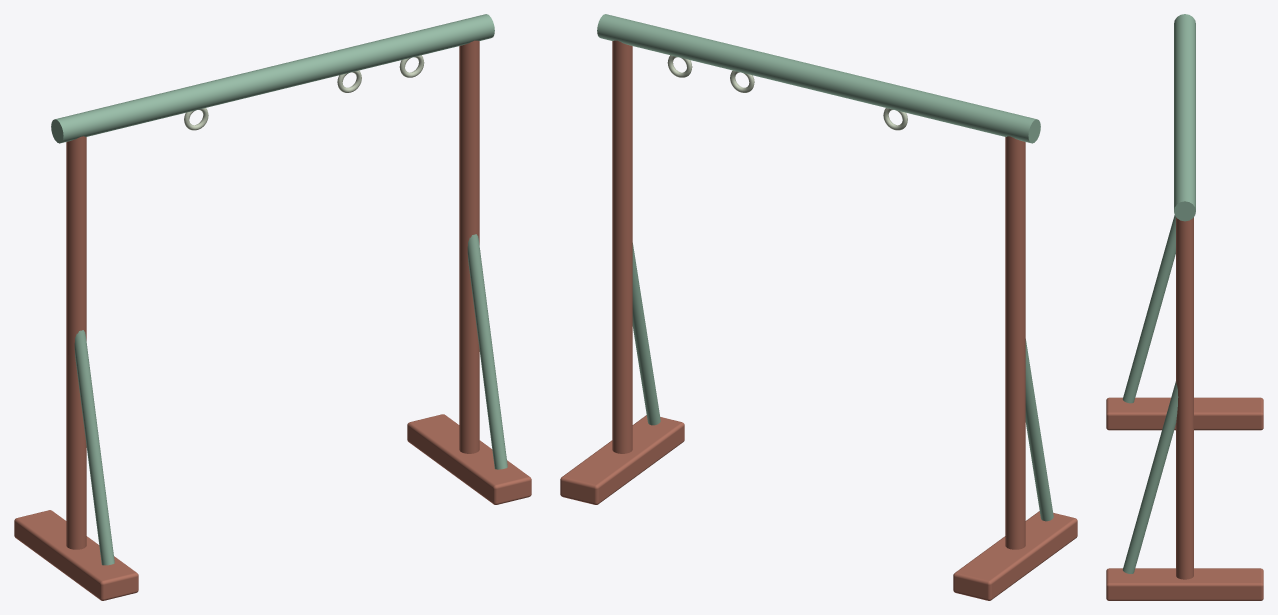
Rendered from enchanted-harp-garden-and-music-sanctuary-gong-support-40a6d131__30436.glb.
3 renders of one model, left to right at view 1: azimuth 30°, elevation 25°; view 2: azimuth 150°, elevation 25°; view 3: azimuth 270°, elevation 25°, orthographic. The views are drawn at different scales.
Parts seen in each view (by area): view 1: gong-support-frame; view 2: gong-support-frame; view 3: gong-support-frame.
Boxes of the visible parts, x1=… form: gong-support-frame: x1=14, y1=14, x2=531, y2=600; gong-support-frame: x1=560, y1=14, x2=1077, y2=600; gong-support-frame: x1=1106, y1=14, x2=1263, y2=600.
Bounding box in the file's own units: 1.8 × 1.79 × 0.6399.
